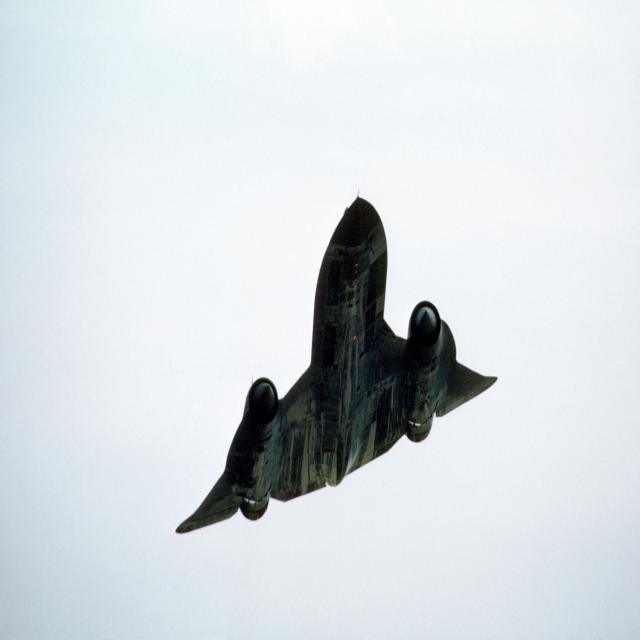MIL_Plane: (175, 188, 498, 534)
